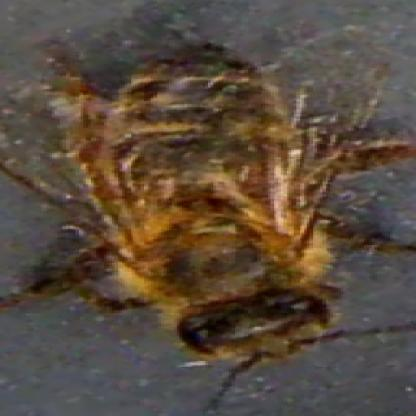bee: (70, 35, 356, 364)
